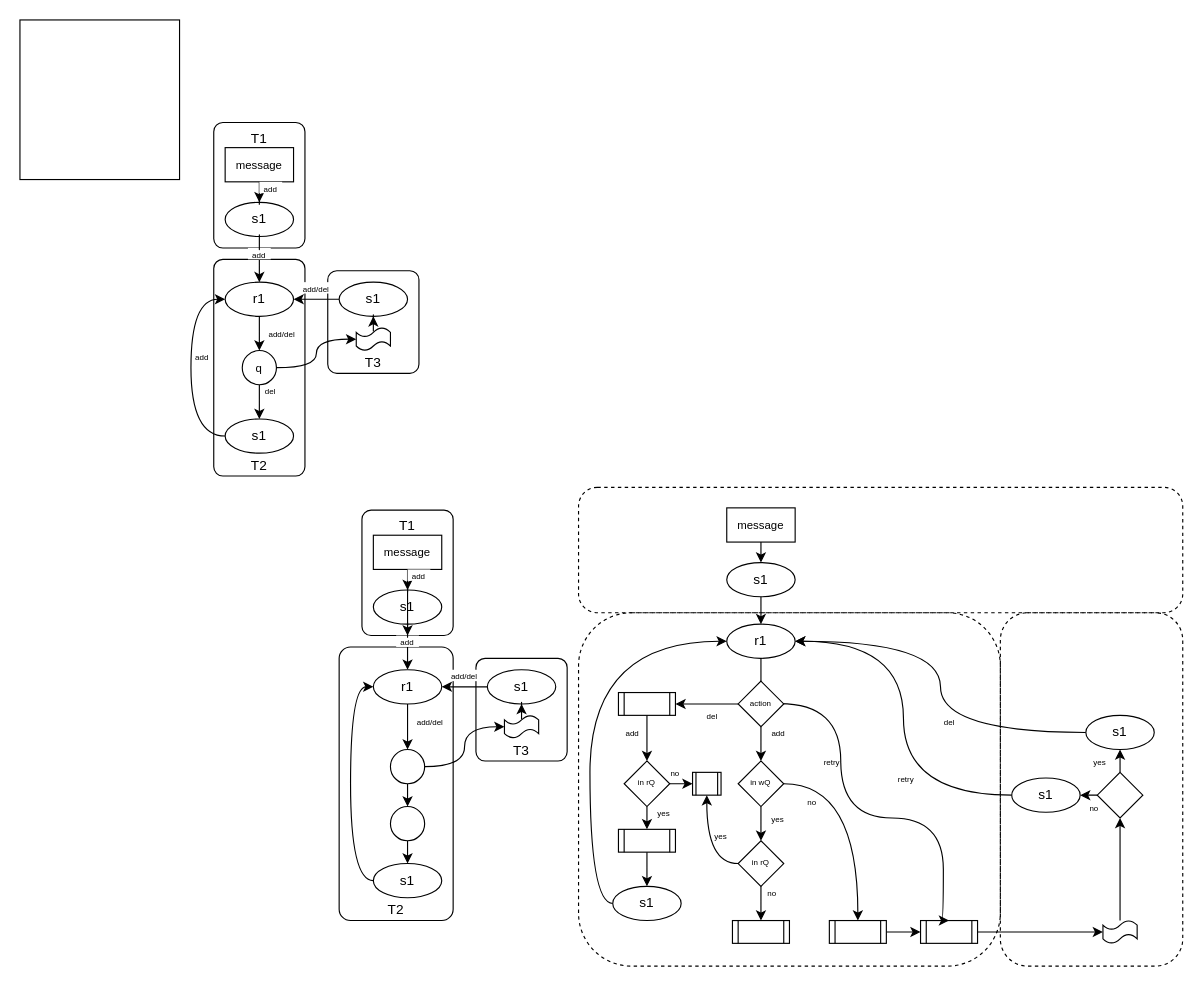
Image size: 1203x986. Some labels were removed from this diagram. Here are the shapes that lost their labels. From the top down, the centre of each, then its label:
At (x=99, y=99): "message{ resource{ name namespace kind } action{add/del/retry} }".
At (x=646, y=703): "del from wQ".
At (x=407, y=766): "wQ".
At (x=706, y=783): "done".
At (x=1119, y=794): "success".
At (x=407, y=823): "rQ".
At (x=646, y=840): "del from rQ".
At (x=760, y=931): "add to rQ".
At (x=857, y=931): "add to wQ".
At (x=948, y=931): "run task".
